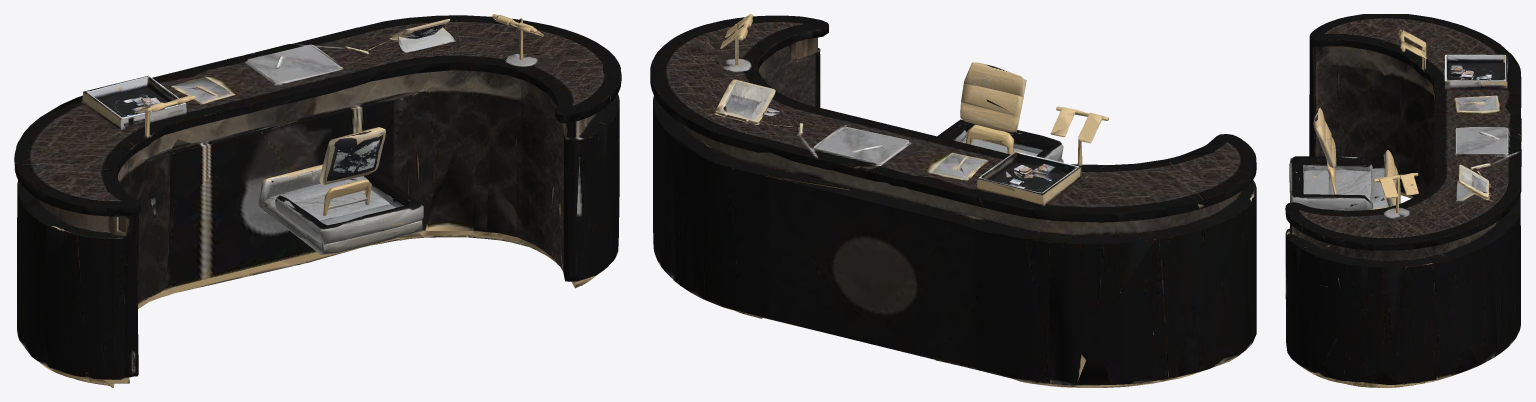
The model's file is vestConsole-medio.glb.
3 renders of one model, left to right at view 1: azimuth 30°, elevation 25°; view 2: azimuth 150°, elevation 25°; view 3: azimuth 270°, elevation 25°, orthographic. The views are drawn at different scales.
Bounding box in the file's own units: 1.9 × 0.721 × 0.8213.
Materials: 1 (1 with a texture image).
